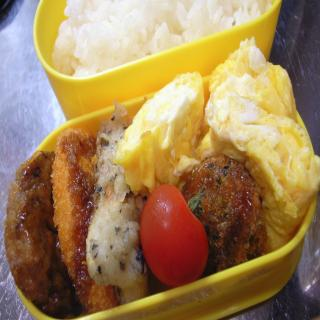tomato: (140, 182, 209, 289)
